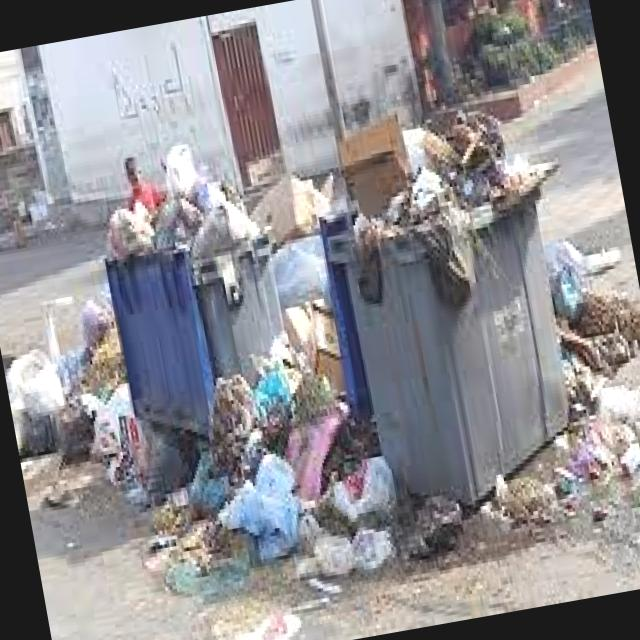garbage: (0, 47, 630, 640)
